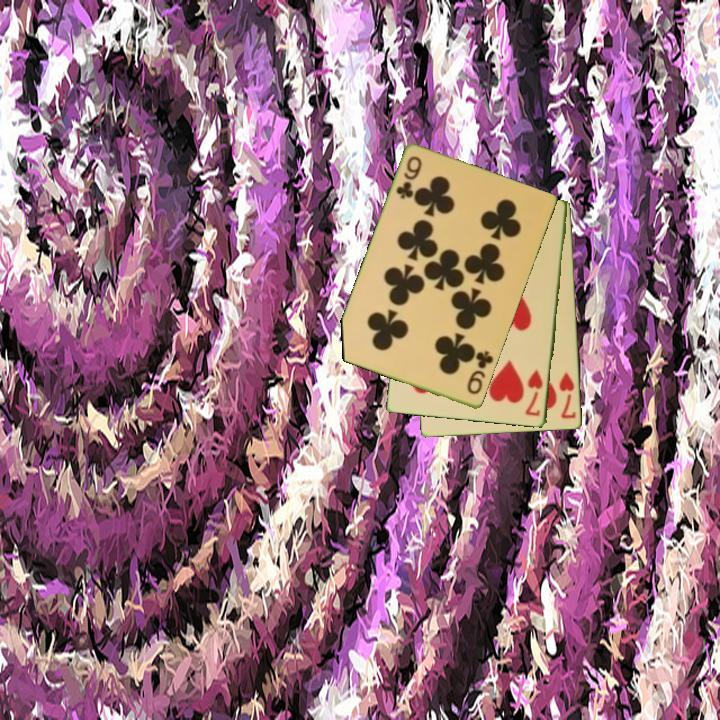7h: (522, 366, 546, 419), (556, 369, 579, 422)
9c: (463, 347, 497, 398), (393, 153, 425, 202)
